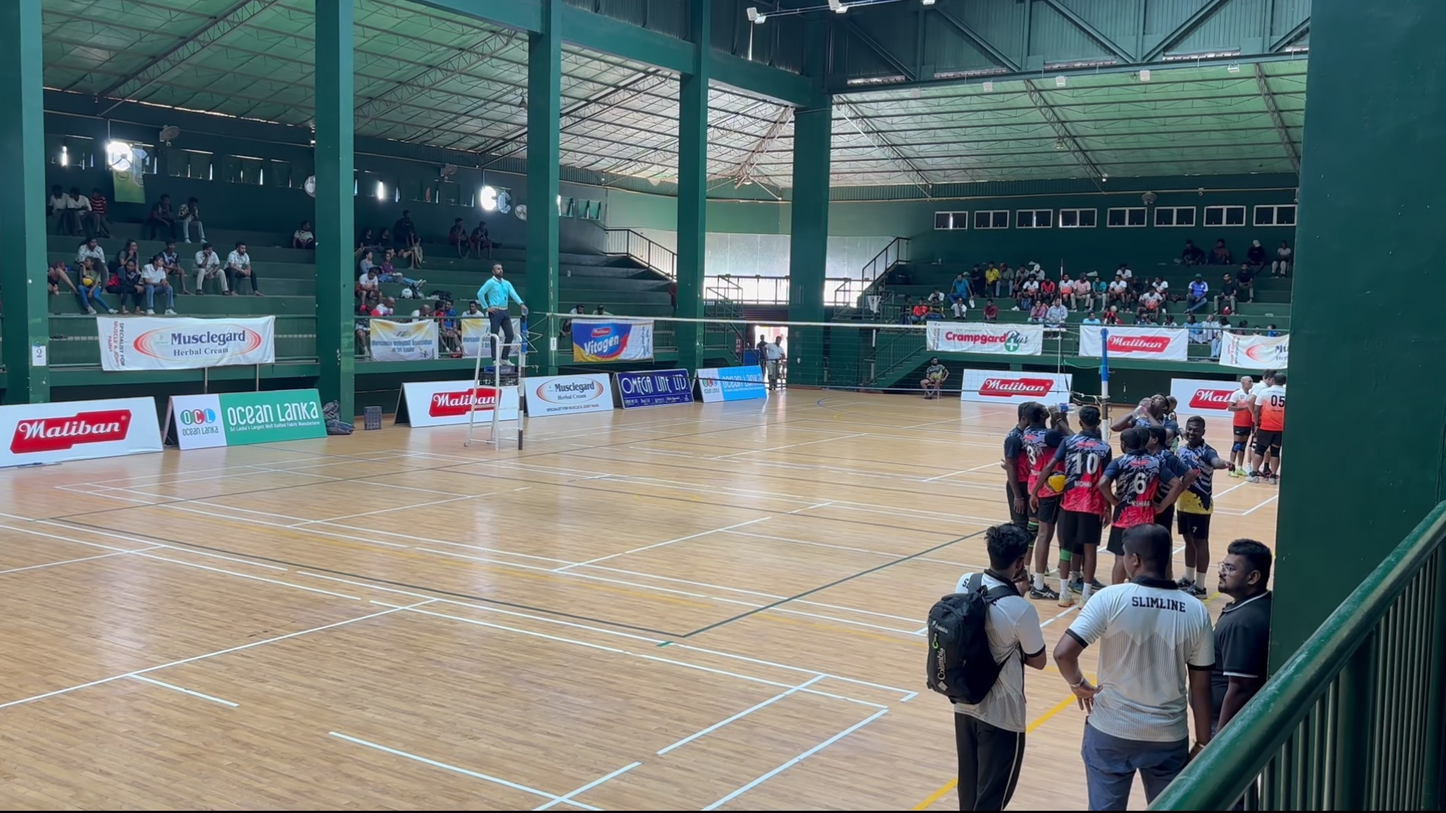Ball: (475, 262, 529, 374)
Payer_B: (1055, 406, 1114, 594), (1030, 403, 1079, 595), (1169, 417, 1220, 584), (1104, 428, 1158, 582), (1006, 404, 1054, 568), (1024, 403, 1063, 572), (1002, 404, 1045, 545)
